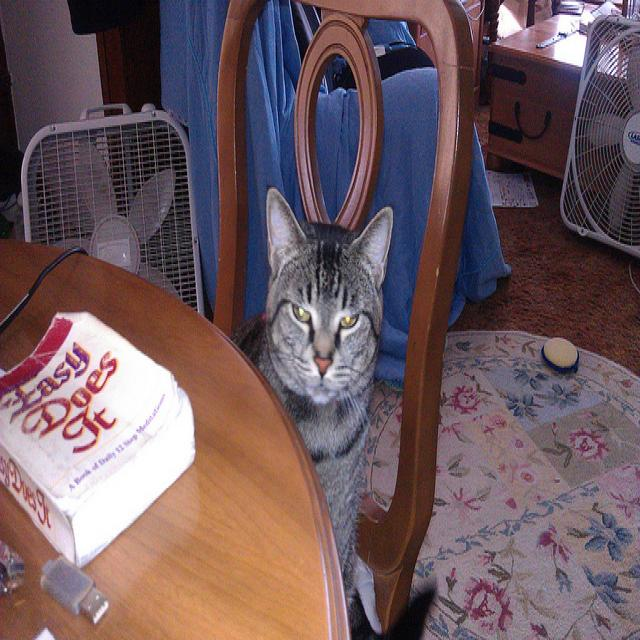chair: (212, 3, 478, 621)
dining table: (1, 231, 353, 632)
